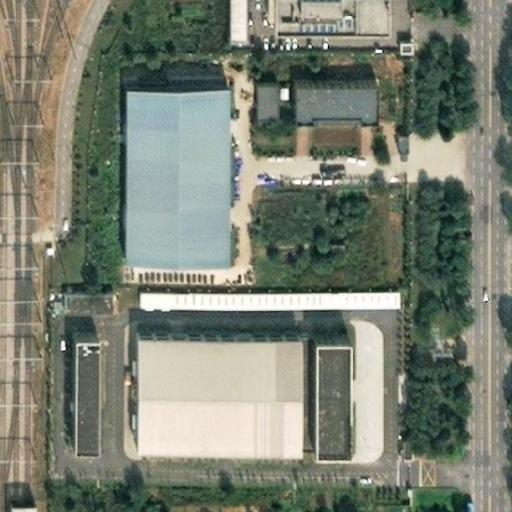building: (121, 325, 283, 441), (109, 75, 213, 250), (143, 287, 399, 308), (295, 328, 327, 441), (296, 113, 374, 156), (281, 74, 360, 109), (57, 325, 78, 435), (62, 288, 115, 311), (245, 73, 262, 104), (7, 501, 38, 512), (398, 37, 416, 55)
